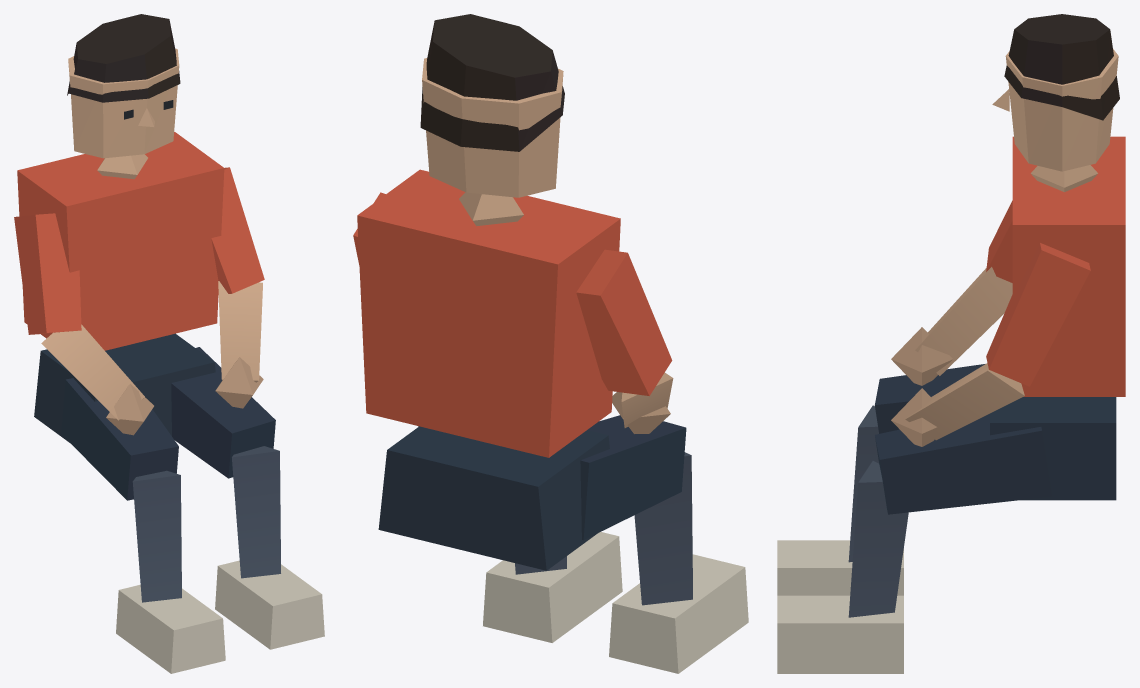
File: fan-01.glb
The picture shows the model from 3 angles, left to right: view 1: azimuth 30°, elevation 25°; view 2: azimuth 150°, elevation 25°; view 3: azimuth 270°, elevation 25°; orthographic projection. The views are drawn at different scales.
Visible parts, largest first — view 1: fan-01; view 2: fan-01; view 3: fan-01.
Boxes of the visible parts, x1,y1,x2,y2 form: fan-01: (14,14,324,673); fan-01: (353,14,748,673); fan-01: (777,14,1125,673).
Bounding box in the file's own units: 0.6479 × 1.49 × 0.77.
